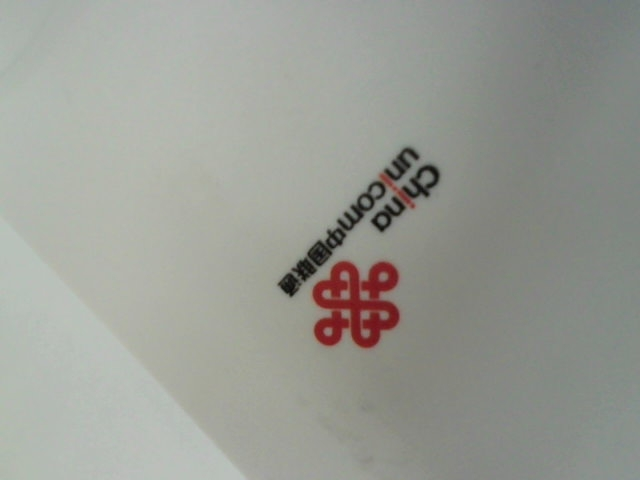ChinaUnicom: (243, 122, 447, 365)
